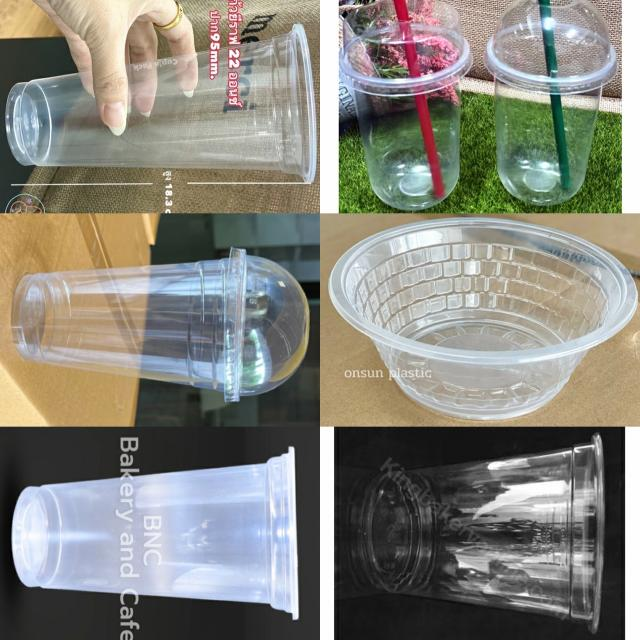Single-Use-Plastic: (329, 218, 637, 420), (348, 434, 604, 632), (6, 24, 316, 182), (13, 448, 299, 619), (11, 249, 309, 401), (484, 0, 618, 205), (339, 24, 472, 210)
